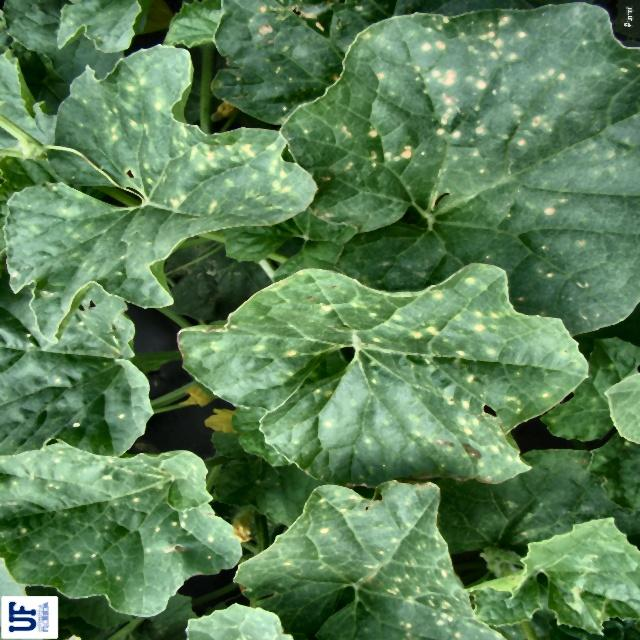leaf_spot: (276, 250, 562, 444), (387, 6, 639, 191)
